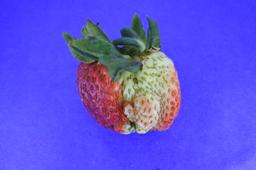red strawberry: (70, 27, 184, 136)
